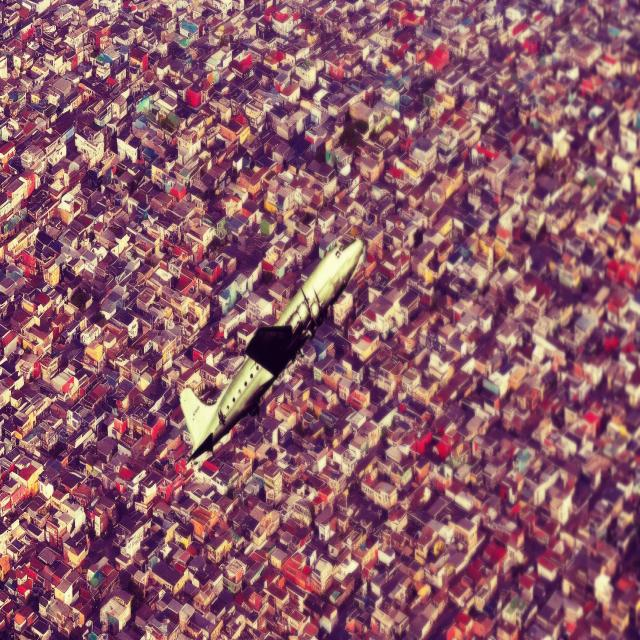airplane: (179, 236, 366, 467)
